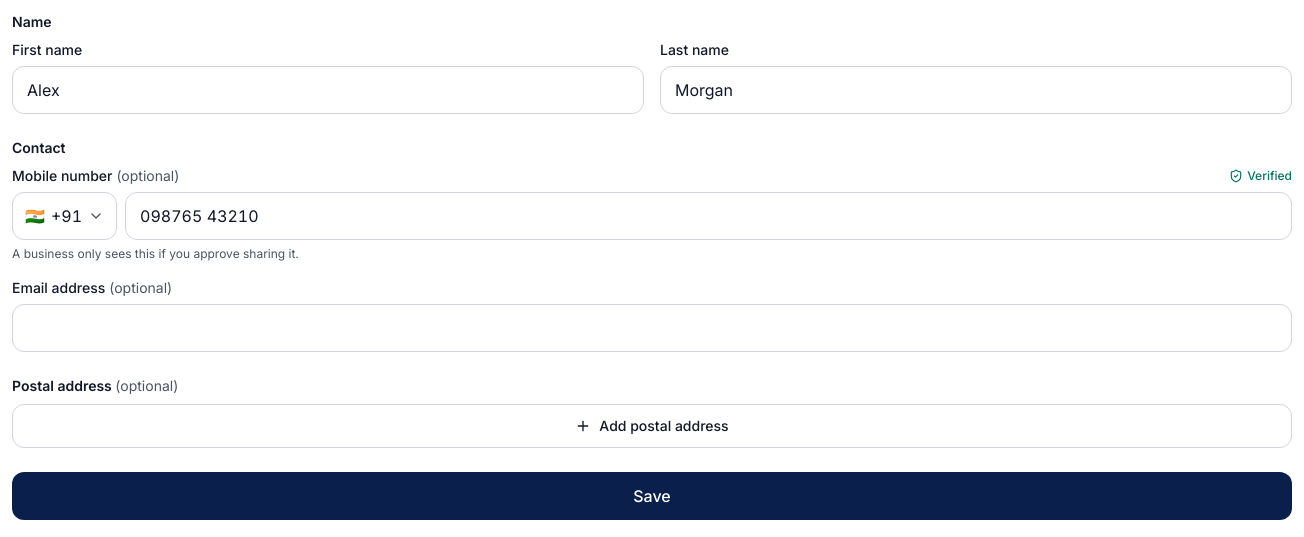
ProfileForm › shows the verified badge only for the provider-verified value, and hides it when edited
The width and height of the screenshot is (1304, 537).
Expected: the text "Verified" is shown, [1229, 168, 1292, 184]
Replace the text in the field labelled "Mobile number (optional)" with "98123 45678" at (709, 216), box [125, 192, 1292, 240]
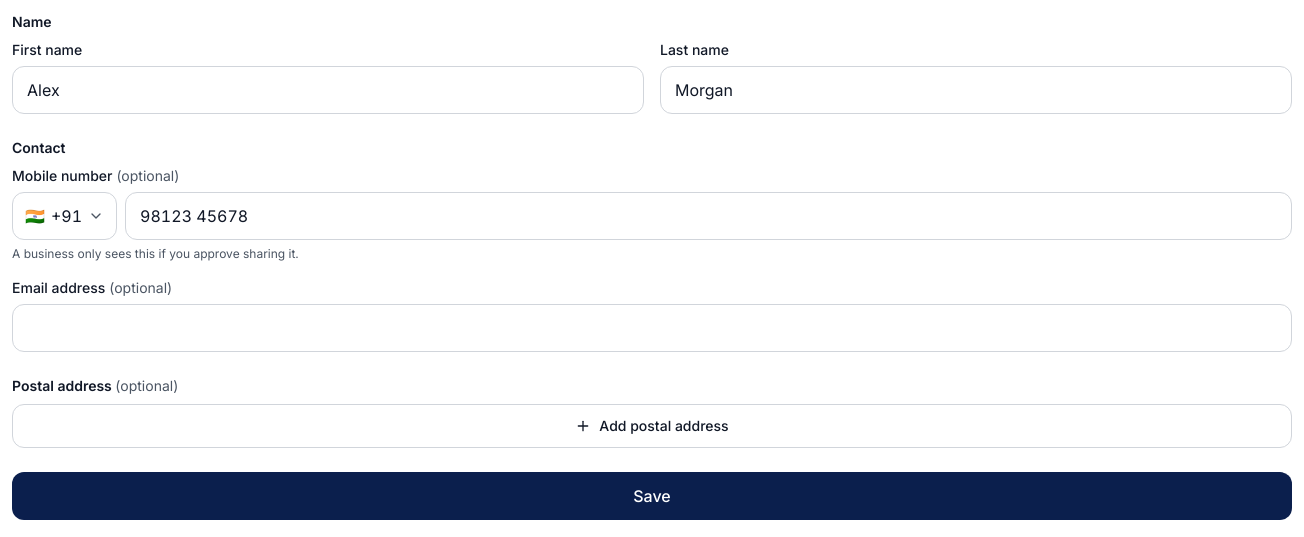
Now the text "Verified" is gone
